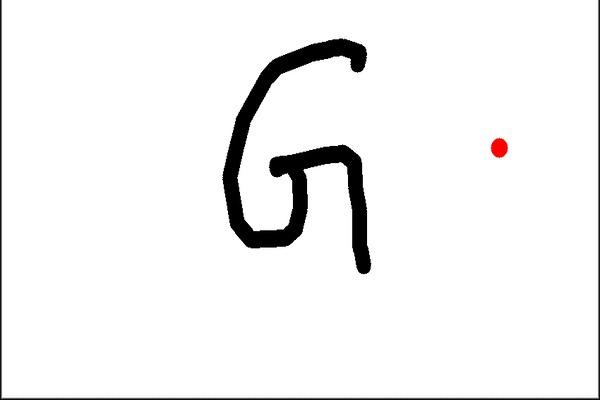G: (215, 27, 390, 280)
